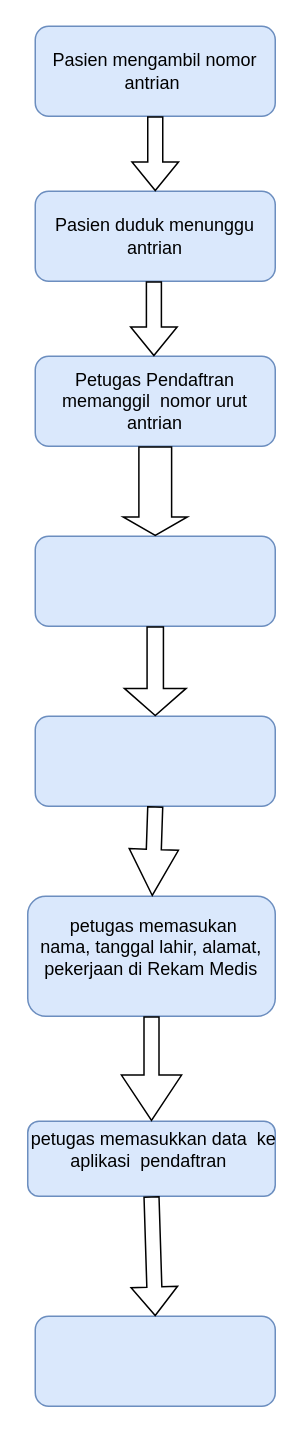
This 303x1433 diagram has some shape labels left out. The centre of each missing label's shape, as x and y in pixels:
Petugas memberi kartu pasien: point 154,1360
Petugas meminta identitas diri seperti KTP/Kartu Keluarga: point 154,580
Petugas meminta kartu BPJS jika ada: point 154,760
